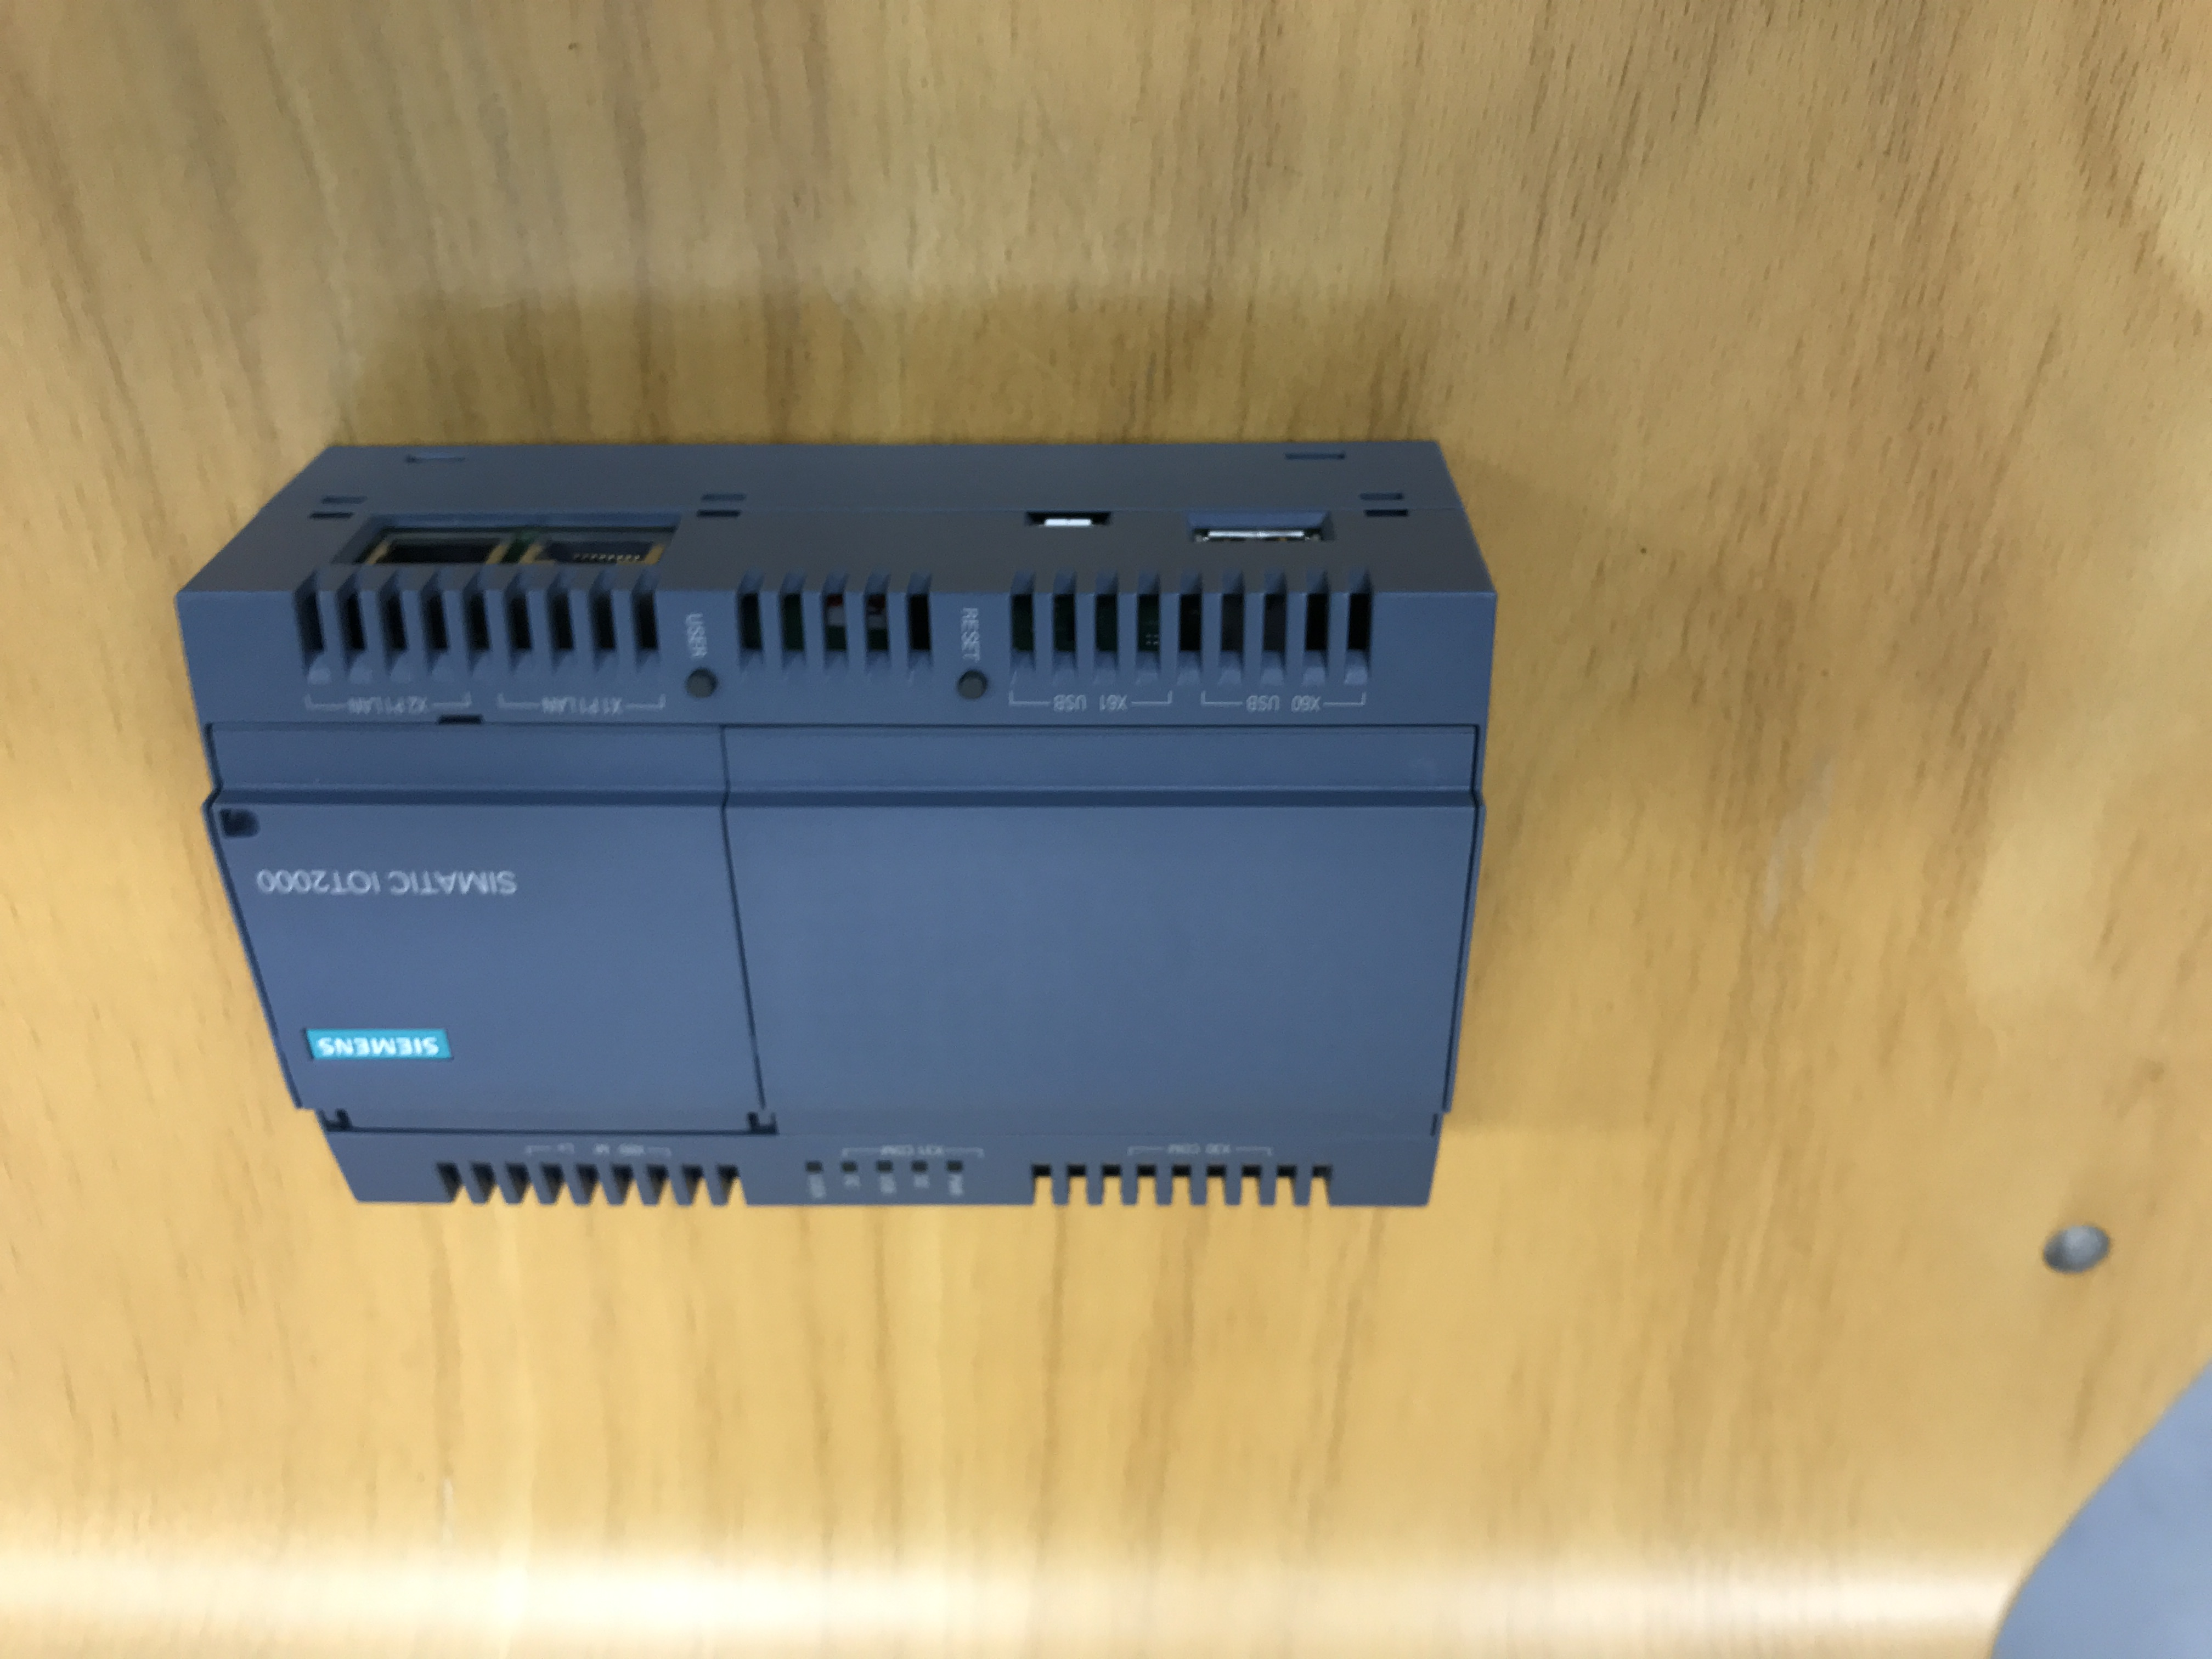device: (174, 439, 1500, 1208)
